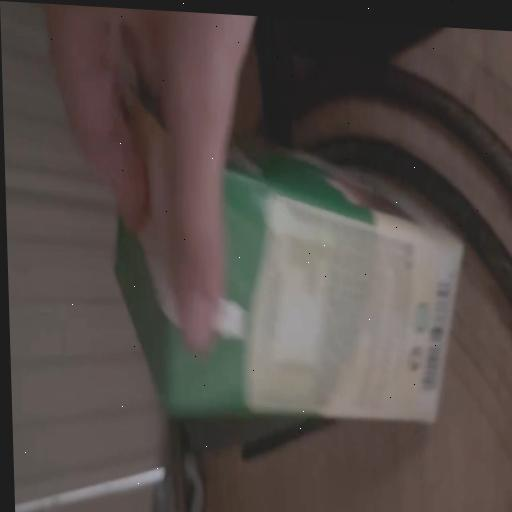ly_giay: (116, 101, 463, 421)
